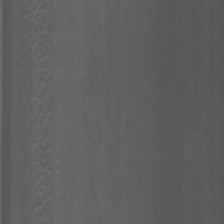silk_spot: (18, 7, 63, 211)
